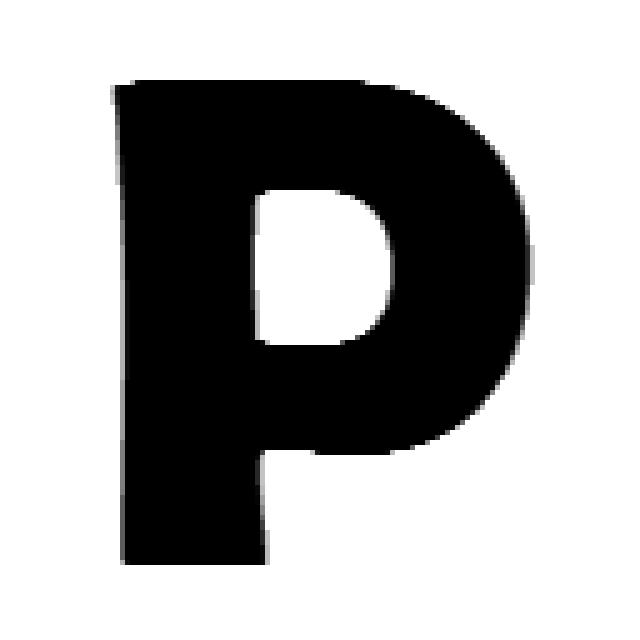P: (110, 80, 530, 570)
